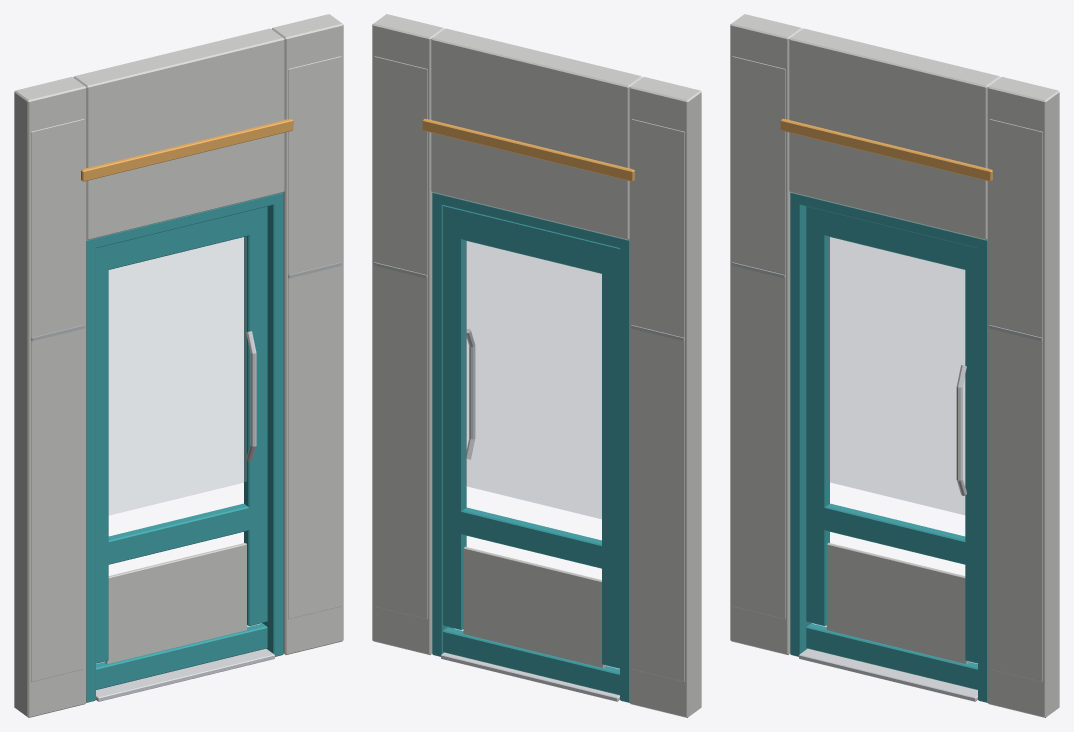
Rendered from pet-shop-and-grooming-salon-shop-door-module-64e55a99__34583.glb.
3 renders of one model, left to right at view 1: azimuth 30°, elevation 25°; view 2: azimuth 150°, elevation 25°; view 3: azimuth 330°, elevation 25°, orthographic.
Parts seen in each view (by area): view 1: shop-door-module, shop-door/glass, shop-door/accent, shop-door/shell, shop-door/metal; view 2: shop-door-module, shop-door/glass, shop-door/accent, shop-door/shell, shop-door/metal; view 3: shop-door-module, shop-door/glass, shop-door/accent, shop-door/shell, shop-door/metal.
Part boxes in pixels (x1,y1,x2,y2): shop-door-module: (14,14,343,717); shop-door/glass: (109,236,246,514); shop-door/accent: (96,206,267,689); shop-door/shell: (105,543,247,664); shop-door/metal: (246,331,256,461); shop-door-module: (372,14,701,717); shop-door/glass: (464,240,601,518); shop-door/accent: (443,205,619,695); shop-door/shell: (463,546,605,667); shop-door/metal: (466,329,475,459); shop-door-module: (730,14,1059,717); shop-door/glass: (827,236,964,514); shop-door/accent: (806,206,977,689); shop-door/shell: (826,543,968,664); shop-door/metal: (956,365,966,495).
Size of the model in its own units: 1.5 by 2.8 by 0.1539.
